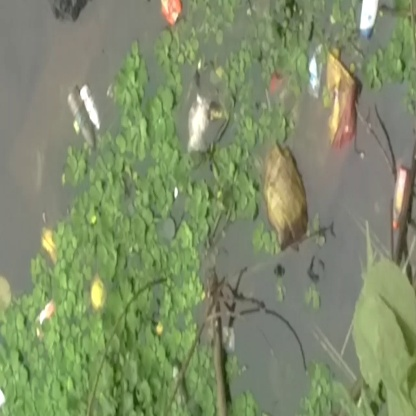leaf: (347, 260, 416, 385)
plastic-bag: (255, 138, 319, 244)
